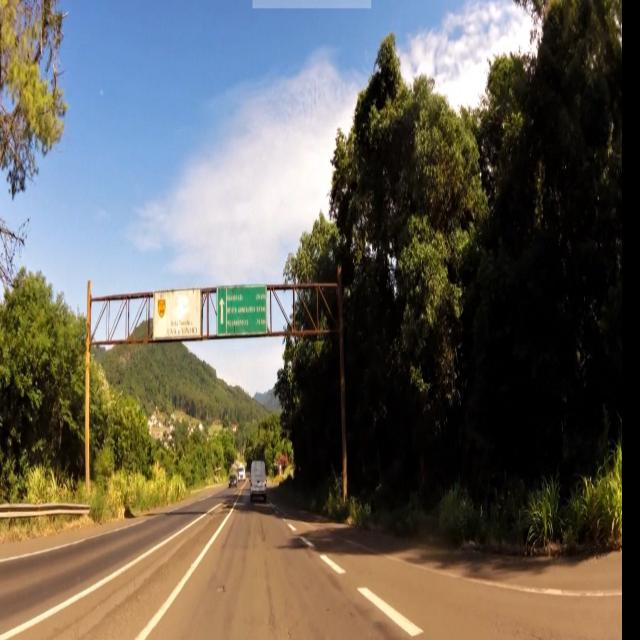I-4: (215, 286, 269, 336)
